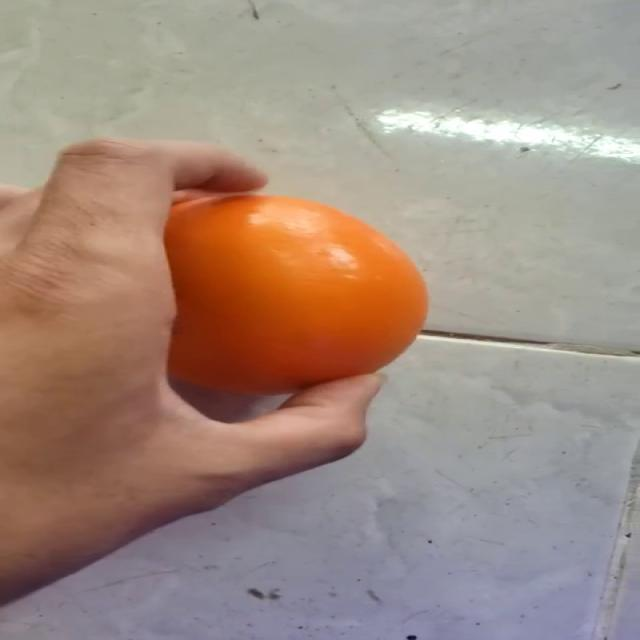Orange: (162, 191, 429, 395)
